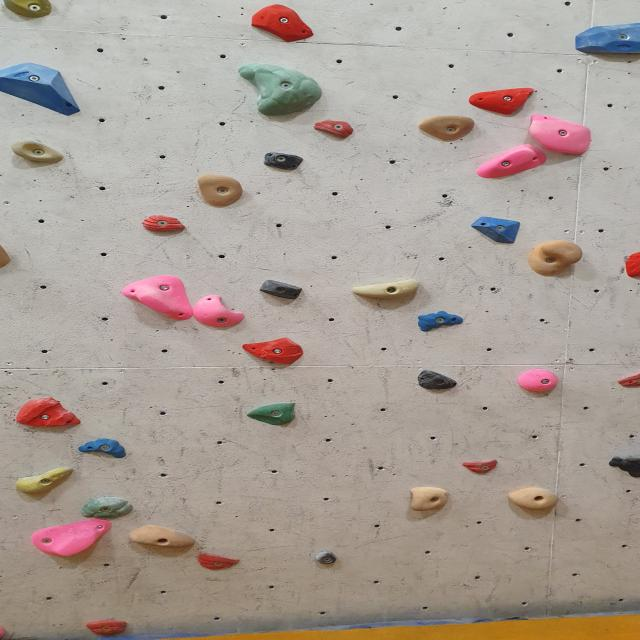Crimp: (246, 5, 314, 46), (475, 142, 548, 180), (572, 22, 640, 58), (12, 396, 83, 429), (244, 335, 306, 366), (467, 88, 540, 114), (413, 370, 464, 392), (194, 551, 243, 573), (84, 498, 134, 519), (310, 120, 354, 140), (81, 439, 127, 456), (138, 215, 180, 233), (460, 458, 507, 474), (89, 620, 126, 636), (618, 372, 640, 388)
Jug: (525, 114, 599, 157), (415, 113, 485, 143), (528, 239, 584, 276), (503, 483, 562, 512), (192, 296, 242, 328), (196, 175, 241, 206), (406, 486, 451, 514), (5, 0, 49, 23), (13, 140, 58, 162)
Pinch: (16, 466, 73, 498), (130, 522, 191, 550), (350, 279, 419, 302), (258, 277, 302, 302), (517, 367, 559, 393), (263, 152, 304, 172), (312, 551, 337, 565)
Sloper: (238, 61, 322, 118), (0, 64, 88, 116), (34, 518, 112, 560), (128, 276, 190, 322), (469, 213, 520, 246), (246, 402, 302, 426), (413, 311, 464, 333)
